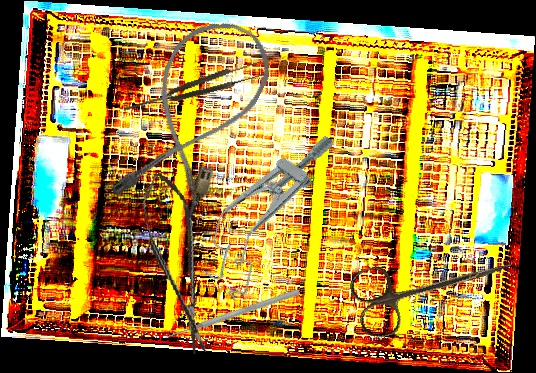Cannula: (103, 4, 284, 233)
Iris Scissors: (346, 227, 522, 343)
Micro Scissor: (137, 168, 217, 359)
Pusher: (163, 287, 301, 342)
Speculum: (184, 111, 347, 305)
Tissue Forceps: (121, 59, 266, 118)
